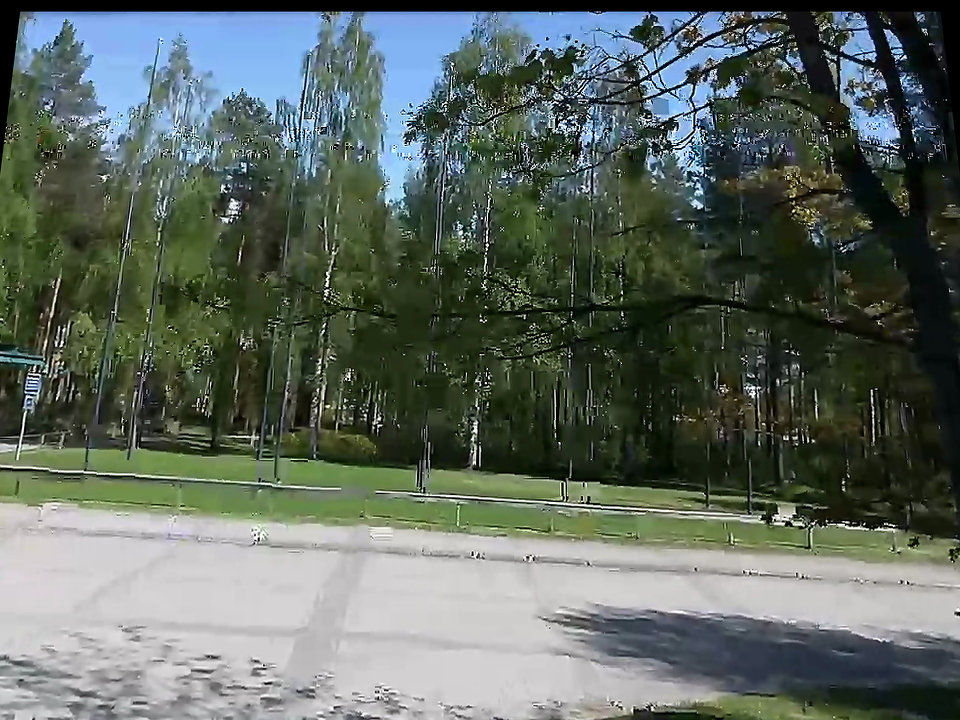branch: (273, 281, 879, 358)
trunk: (776, 26, 955, 188), (844, 162, 956, 380)
